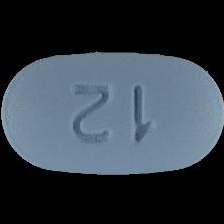50268-642: (0, 0, 224, 224)
